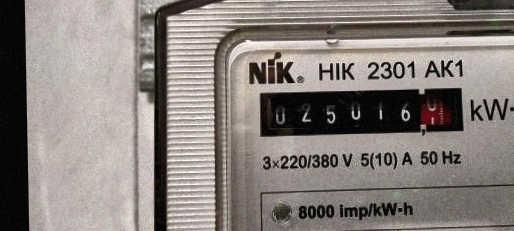0: (348, 98, 363, 121), (273, 103, 286, 126), (424, 91, 437, 112)
1: (373, 96, 385, 122), (427, 114, 435, 126)
2: (299, 100, 312, 123)
5: (324, 102, 335, 124)
6: (398, 99, 411, 124)
screen: (249, 78, 472, 143)
